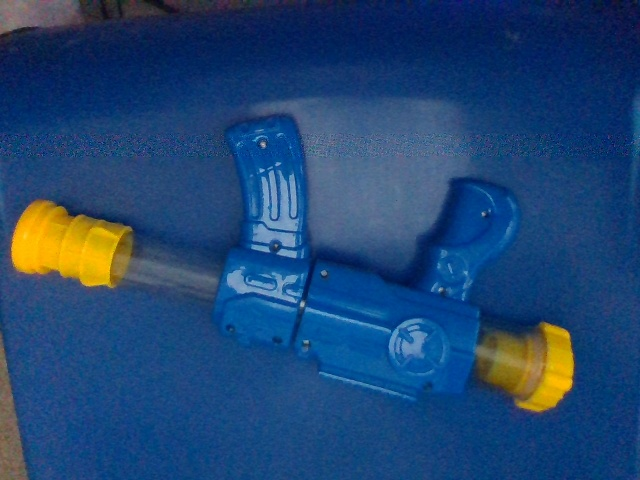screw hole: (436, 285, 449, 298), (421, 379, 434, 392), (269, 240, 281, 254), (225, 322, 237, 335), (257, 136, 268, 149), (301, 338, 312, 350), (480, 208, 493, 218), (319, 269, 329, 279), (273, 336, 283, 345)
toy: (11, 114, 574, 412)
